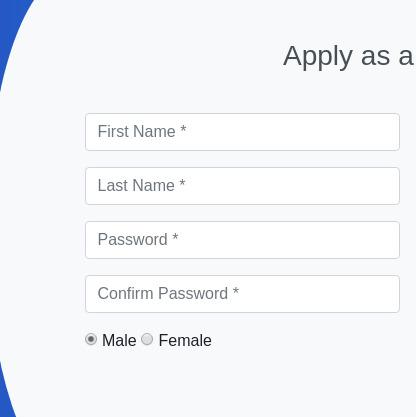field: (81, 110, 402, 155), (81, 164, 400, 208), (83, 220, 400, 261), (81, 273, 402, 312)
radio: (142, 328, 160, 351), (82, 330, 101, 350)
radio_with_label: (136, 324, 212, 355), (78, 325, 132, 355)
